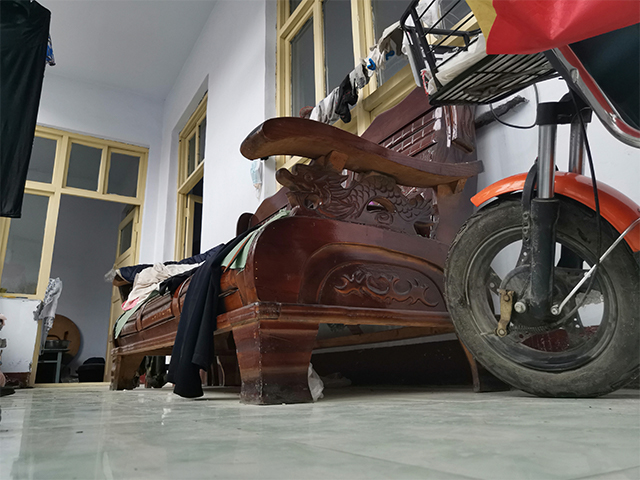stool: (107, 81, 485, 406)
